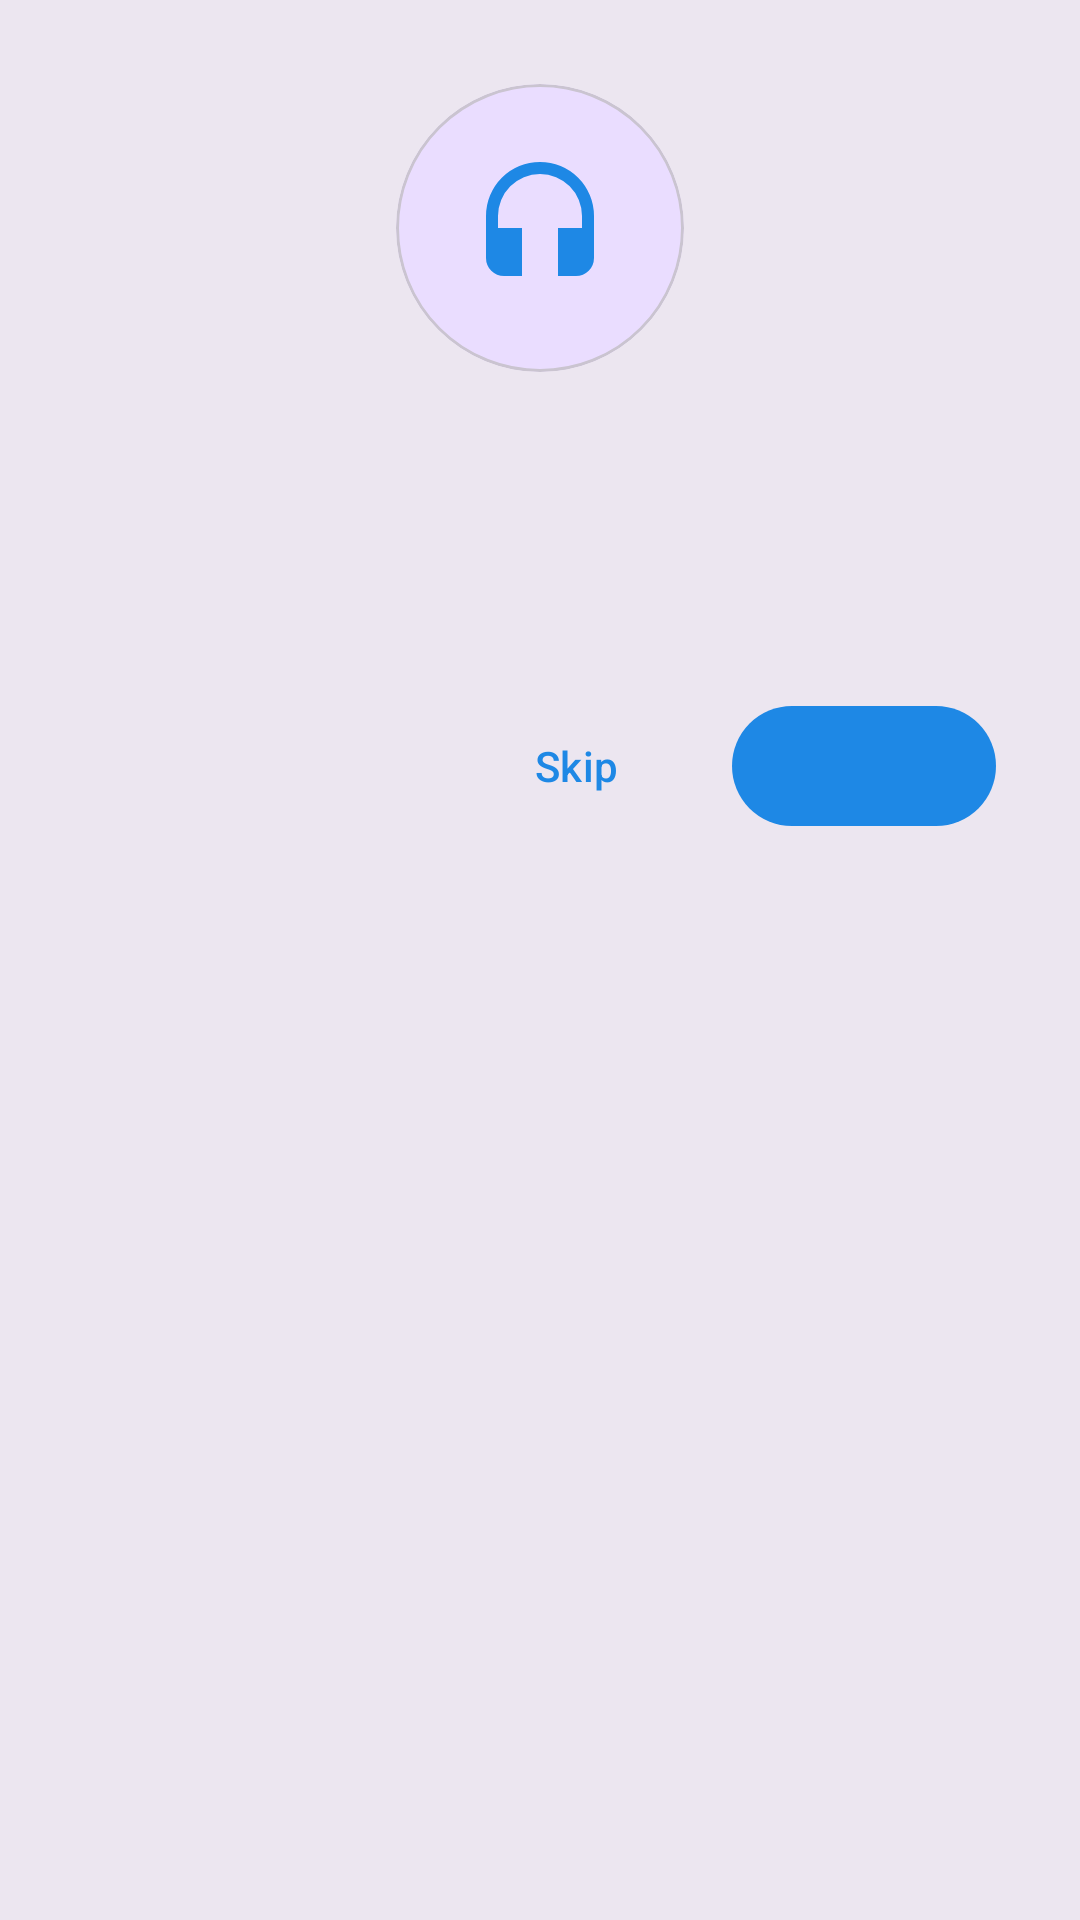

Icon click points for this 1080px x 1920px phone screenshot, format (x=x, y=y):
headset: (x=540, y=228)
